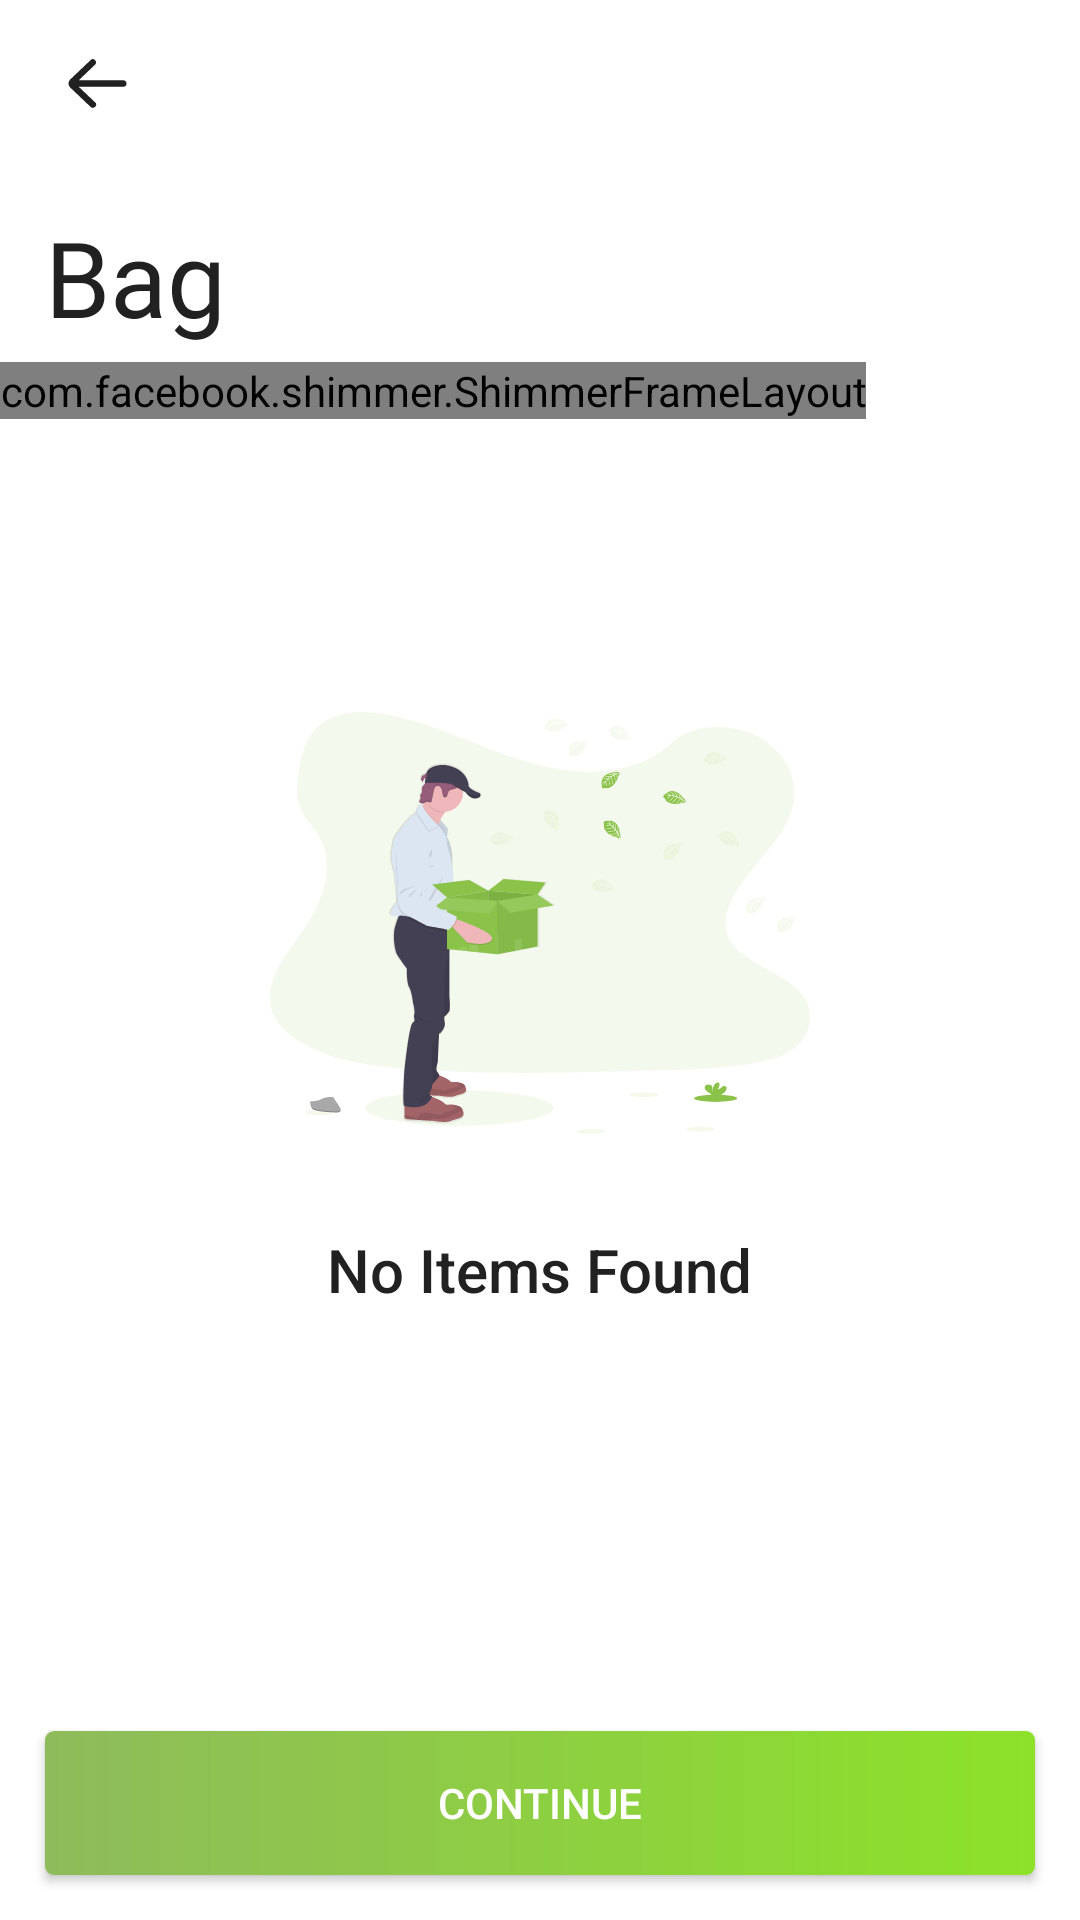

Where to tap for icons on this 1080w x 1920h app screen, as (x,y):
back: (97,83)
